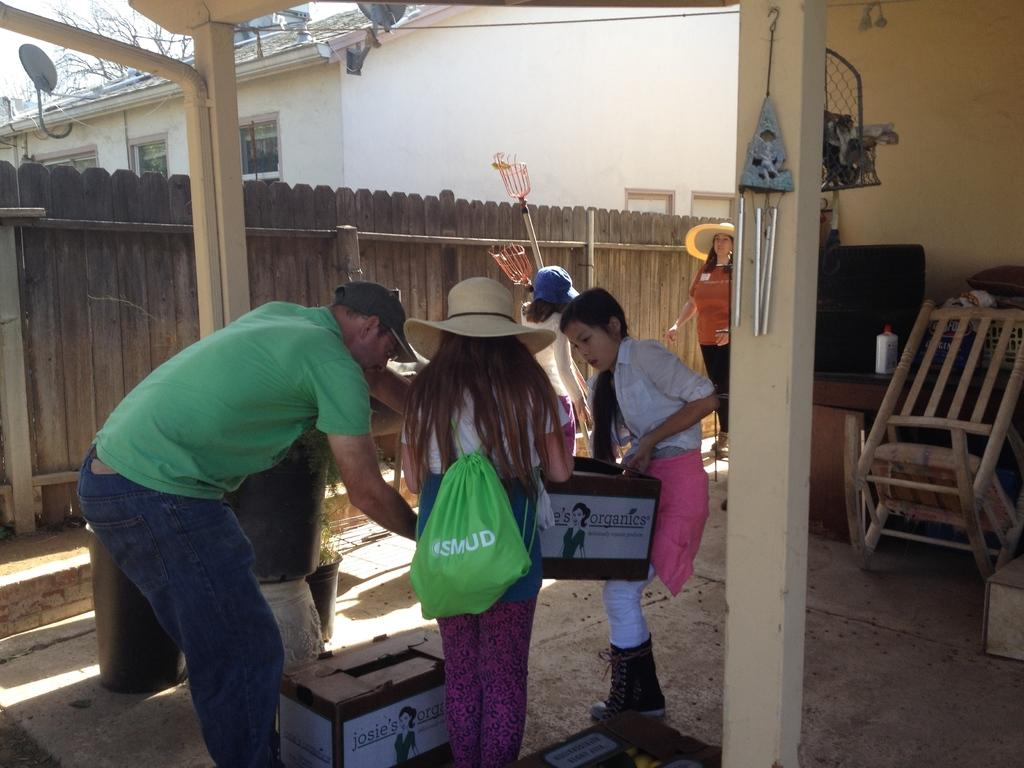Hat: (406, 274, 558, 360), (334, 281, 404, 348), (684, 224, 734, 266), (530, 264, 576, 304)
